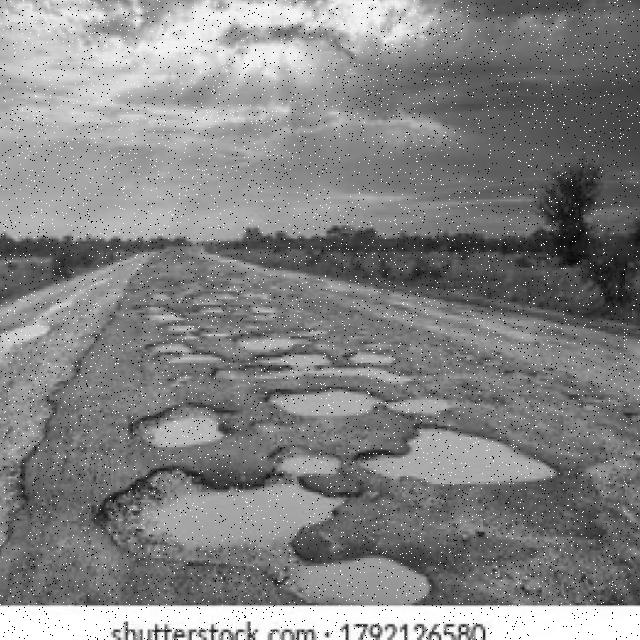pothole: (103, 471, 432, 606), (148, 339, 451, 416), (363, 429, 556, 484), (130, 405, 221, 450)
